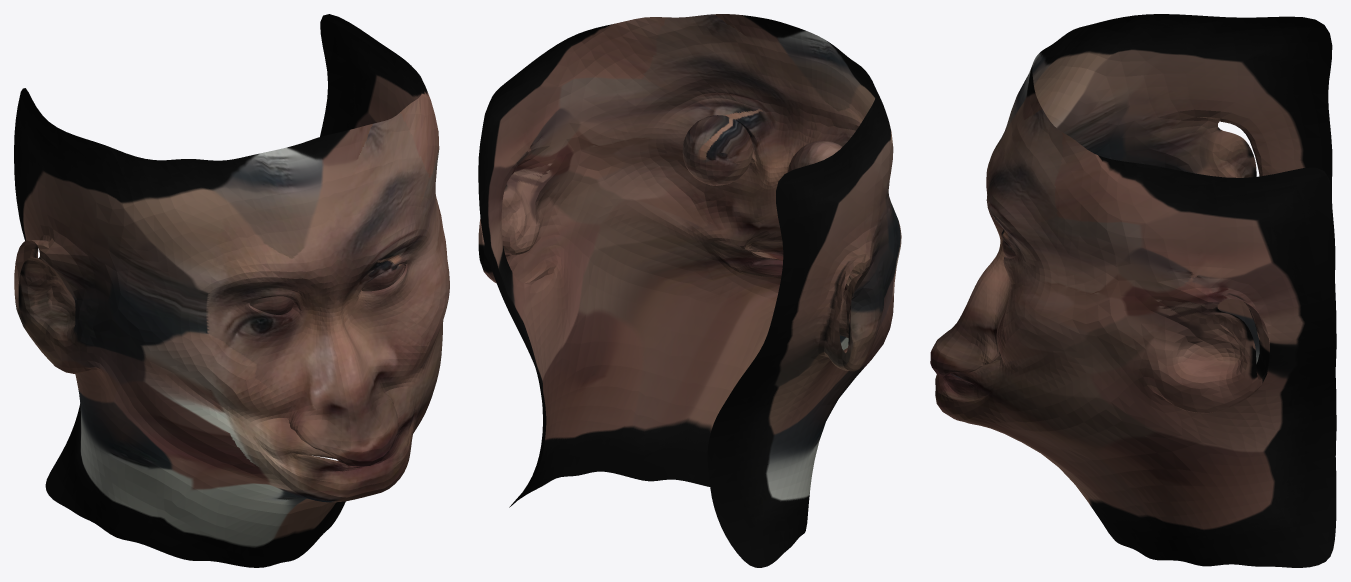
The model's file is baseline.glb.
The picture shows the model from 3 angles, left to right: view 1: azimuth 30°, elevation 25°; view 2: azimuth 150°, elevation 25°; view 3: azimuth 270°, elevation 25°; orthographic projection. The views are drawn at different scales.
Visible parts, largest first — view 1: geometry_0; view 2: geometry_0; view 3: geometry_0.
Part boxes in pixels (x1,y1,x2,y2): geometry_0: (14, 14, 449, 567); geometry_0: (478, 14, 901, 567); geometry_0: (930, 14, 1336, 567).
Bounding box in the file's own units: 0.1711 × 0.1978 × 0.1601.
Materials: 1 (1 with a texture image).
